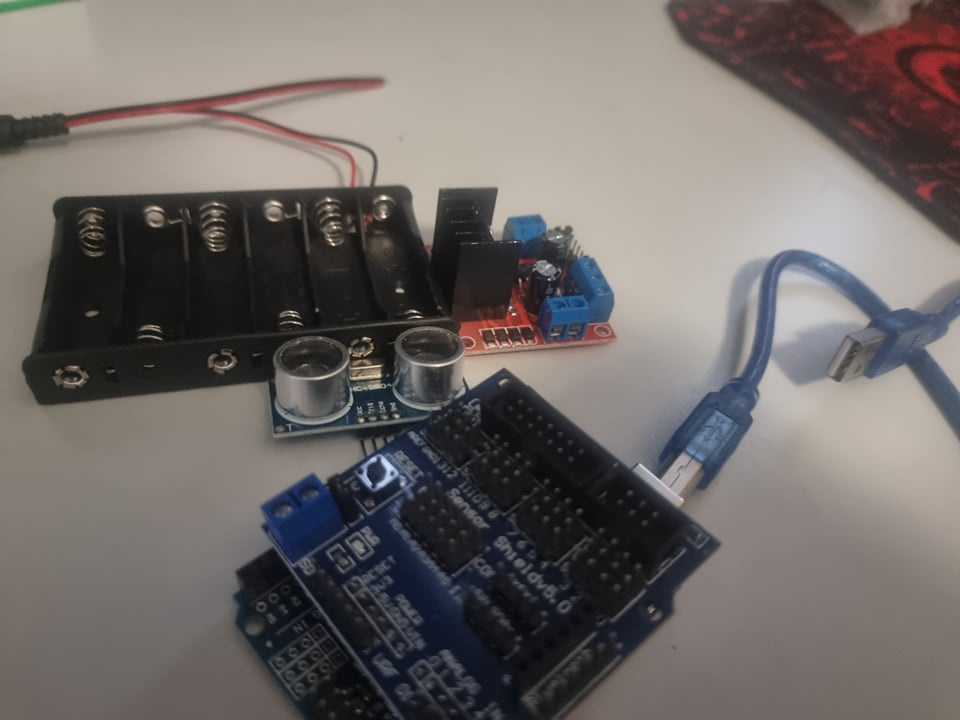5V EXPANSION: (267, 360, 722, 712)
BATTERY BOX: (19, 180, 451, 396)
MOTOR: (424, 185, 620, 356)
SENSOR: (273, 325, 464, 433)
